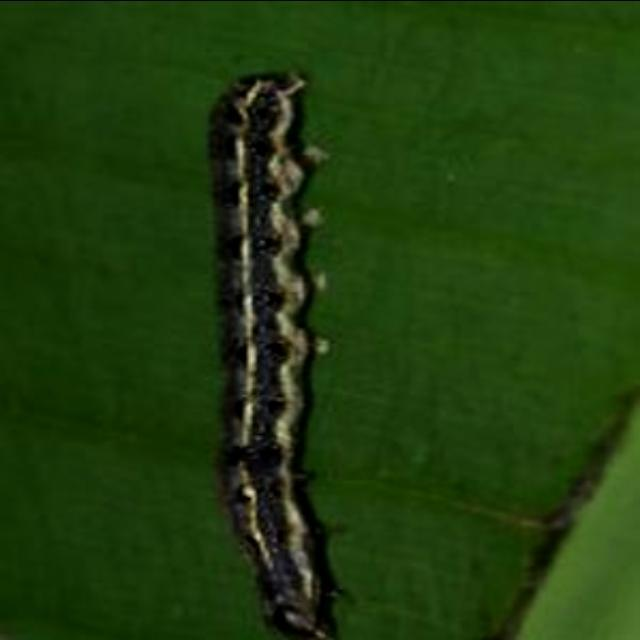Tobacco cutworm: (140, 48, 473, 640)
